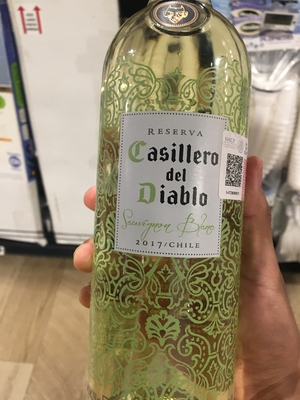casillero del diablo sauvignon blanc: (89, 10, 251, 400)
